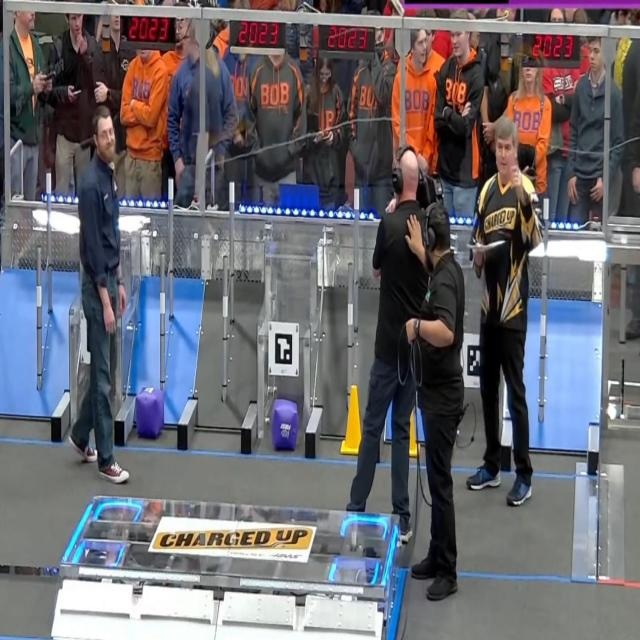frc_cone: (340, 384, 364, 455), (409, 402, 422, 458)
frc_cube: (271, 398, 298, 454), (135, 389, 165, 439)
